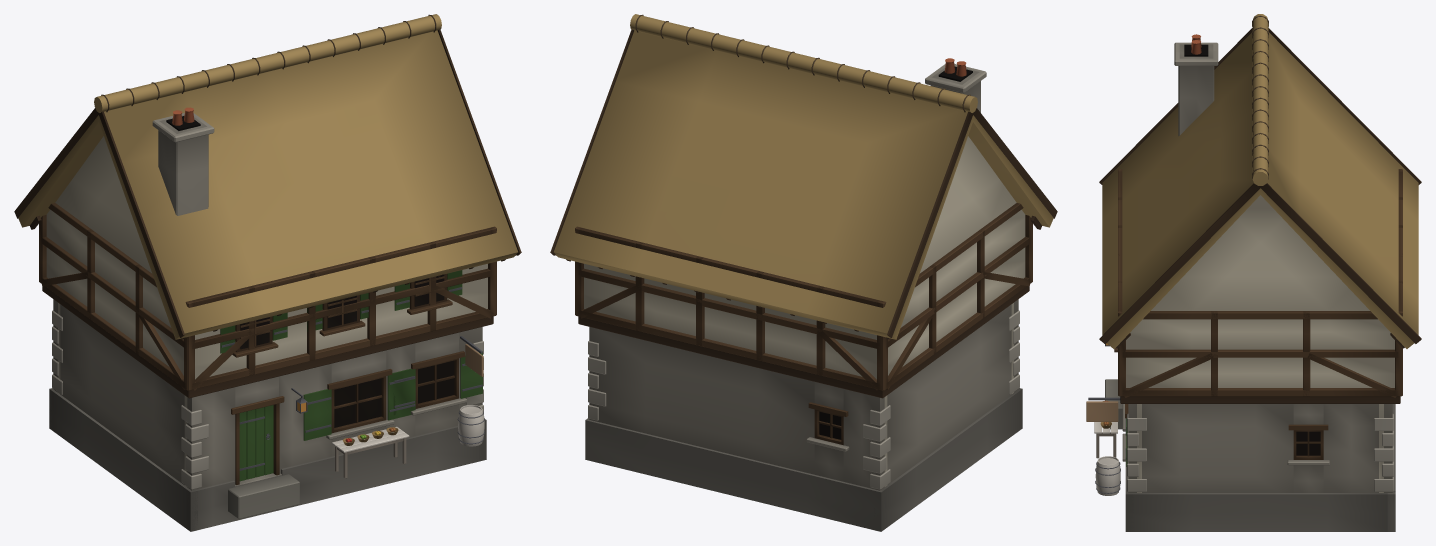
Rendered from store.glb.
3 renders of one model, left to right at view 1: azimuth 30°, elevation 25°; view 2: azimuth 150°, elevation 25°; view 3: azimuth 270°, elevation 25°, orthographic. The views are drawn at different scales.
Parts seen in each view (by area): view 1: ext, door0; view 2: ext; view 3: ext, int.
Boxes of the visible parts, x1,y1,x2,y2 form: ext: [14, 14, 521, 531]; door0: [239, 405, 273, 481]; ext: [550, 14, 1057, 531]; ext: [1086, 14, 1421, 531]; int: [1137, 404, 1383, 492].
Bounding box in the file's own units: 9.34 × 10.23 × 8.37.
